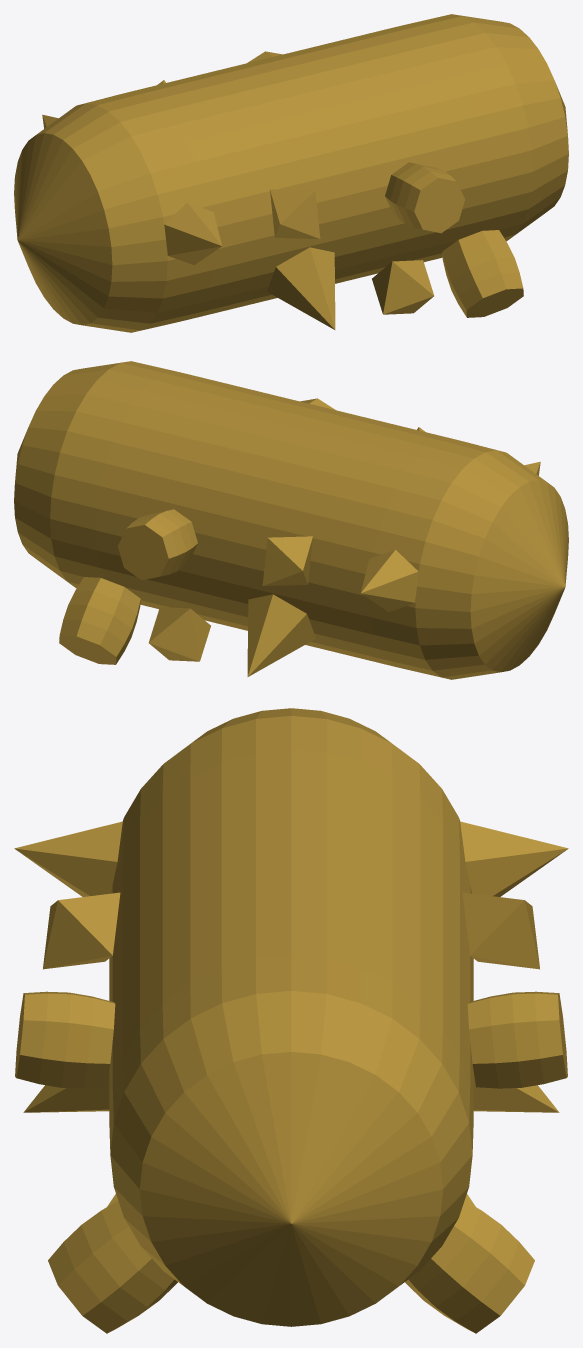
The model's file is exp1_capsule_sym_03.glb.
3 views of the same model, one above another, from view 1: azimuth 30°, elevation 25°; view 2: azimuth 150°, elevation 25°; view 3: azimuth 270°, elevation 25° (orthographic). The views are drawn at different scales.
Visible parts, largest first — view 1: exp1_capsule_sym_03; view 2: exp1_capsule_sym_03; view 3: exp1_capsule_sym_03.
Boxes of the visible parts, left/top/right/bottom form: exp1_capsule_sym_03: left=14, top=14, right=568, bottom=332; exp1_capsule_sym_03: left=14, top=361, right=568, bottom=679; exp1_capsule_sym_03: left=14, top=708, right=568, bottom=1333.
Bounding box in the file's own units: 3.48 × 1.47 × 1.98.
